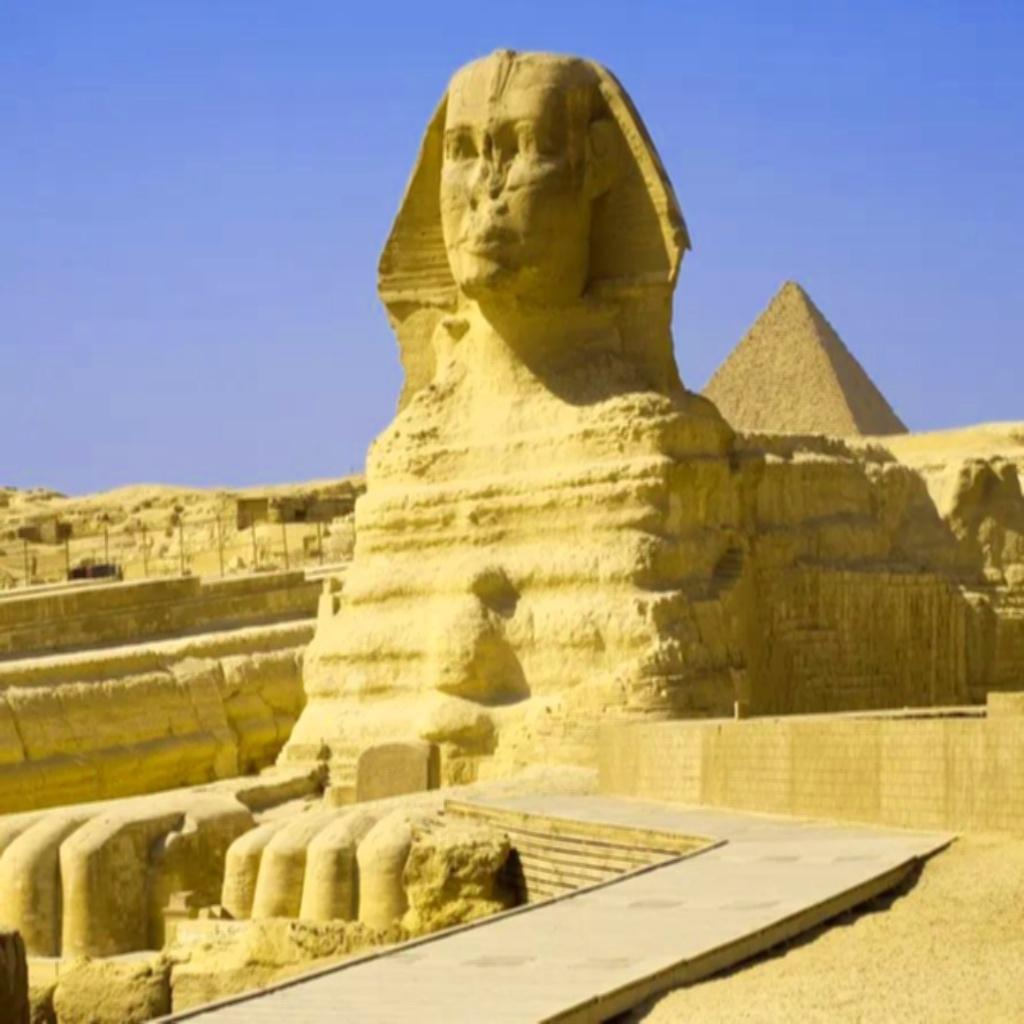Sphinx: (273, 44, 754, 788)
